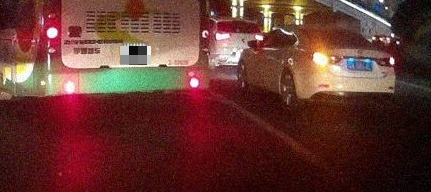L_light: (307, 50, 342, 66), (215, 32, 231, 41)
R_light: (374, 55, 396, 67), (255, 34, 264, 41)
T_light: (333, 30, 349, 35), (233, 20, 243, 23)
night-left: (297, 26, 397, 117)
night-no: (212, 19, 264, 70)
plate_1: (120, 46, 151, 65)
